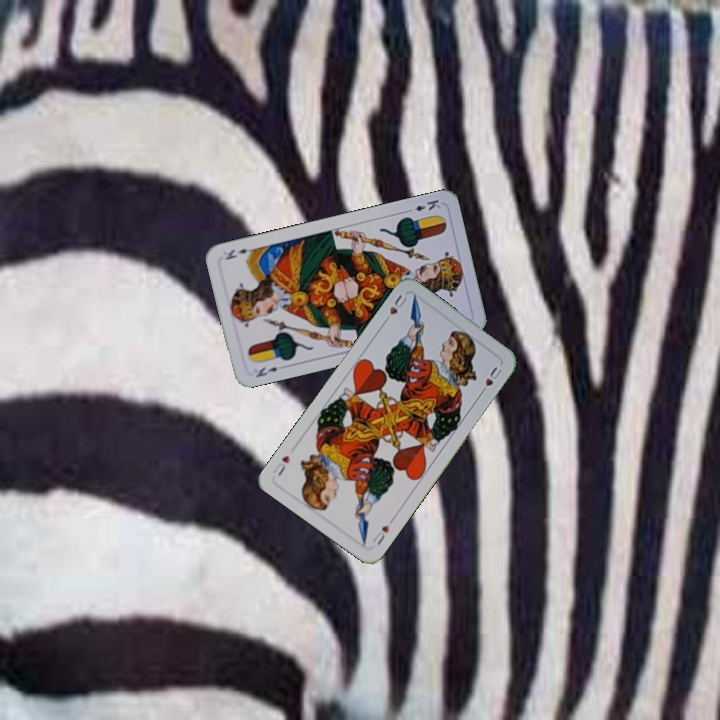EK: (402, 195, 443, 215), (252, 363, 280, 380)
HU: (380, 290, 409, 326), (368, 514, 396, 548)
